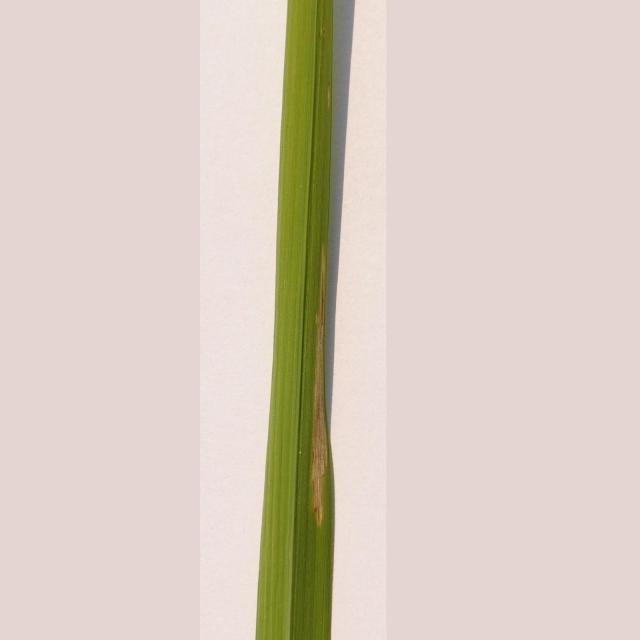leaf blight: (298, 247, 333, 539)
